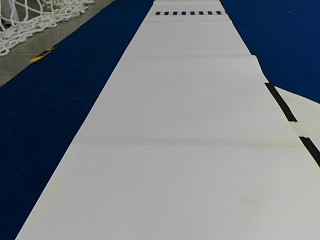crosswalk: (156, 9, 221, 15)
